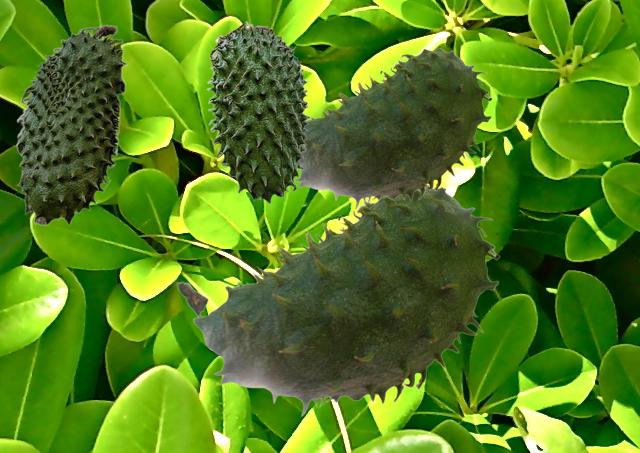guyabano: (176, 185, 499, 416), (295, 48, 491, 209), (15, 24, 126, 225), (206, 20, 310, 203)
